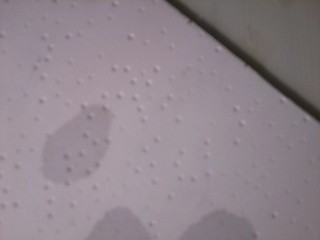Water_detected: (49, 107, 109, 181), (177, 201, 221, 240), (90, 205, 138, 240)
